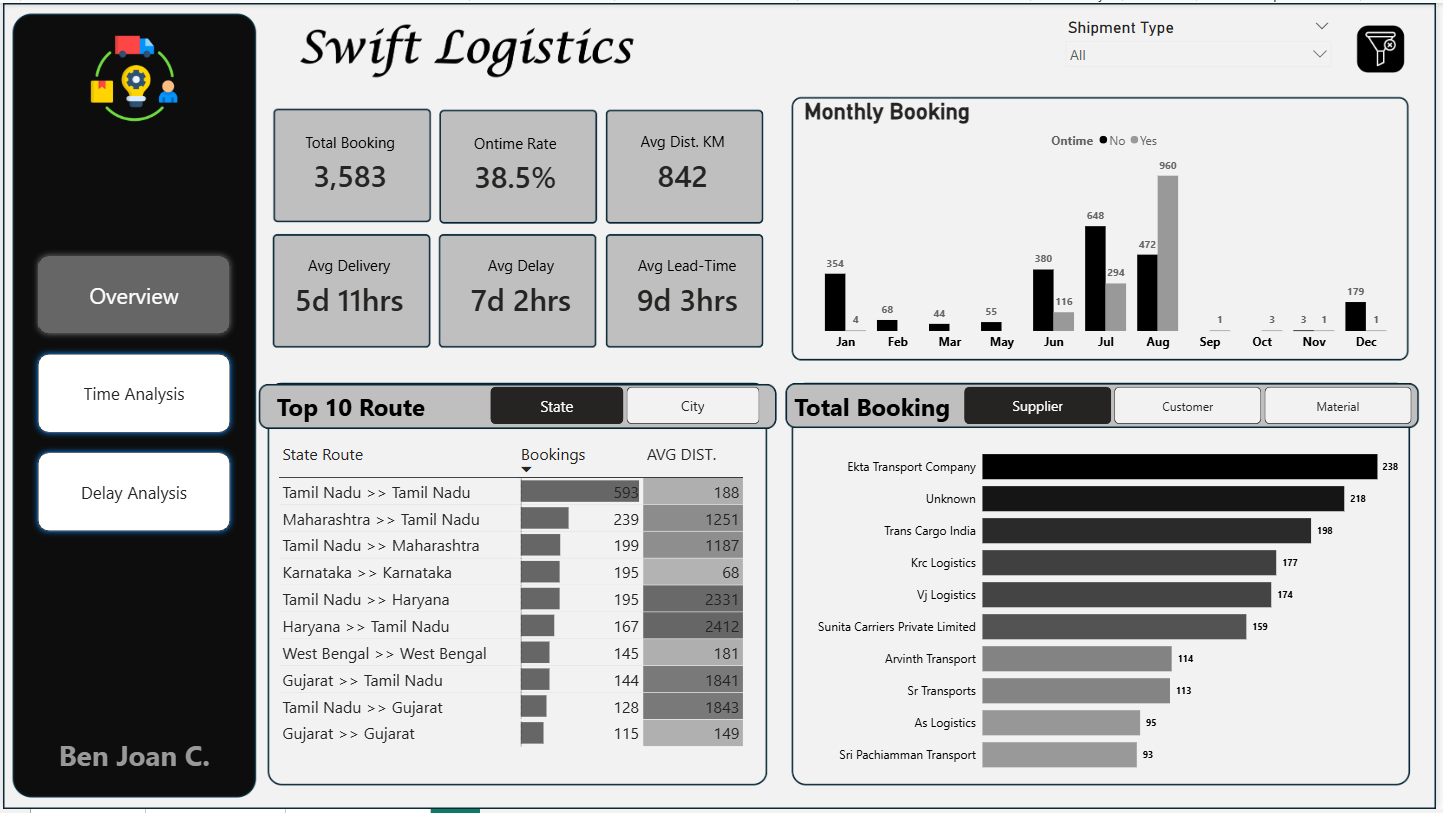

The dashboard page shown, as its layout file describes it:
{"tool":"powerbi","page":{"name":" Overview","canvas":[1920,1080],"ordinal":0},"visuals":[{"type":"cardVisual","fields":{"Data":["_Measures.Total Booking"]},"box":[361.8,140.7,207.7,149.1],"z":0},{"type":"cardVisual","fields":{"Data":["_Measures.Ontime Rate %"]},"box":[582.6,141.3,207.6,150],"z":1000},{"type":"cardVisual","fields":{"Data":["_Measures.Avg Delivery"]},"box":[353.8,307.2,221.6,149],"z":2000},{"type":"cardVisual","fields":{"Data":["_Measures.Avg Delay"]},"box":[582.9,304.8,222.8,150.7],"z":3000},{"type":"cardVisual","fields":{"Data":["_Measures.Avg Lead-Time"]},"box":[805.6,304.8,222.8,150.7],"z":4000},{"type":"cardVisual","fields":{"Data":["_Measures.AVG DISTANCE"]},"box":[807.6,139.5,207.6,150],"z":5000},{"type":"image","box":[1803.5,27.9,83.7,66.3],"z":6000},{"type":"textbox","box":[1055.2,514.5,296.5,59.3],"z":7000},{"type":"columnChart","title":"  Monthly Booking","fields":{"Category":["Date.Booking Month Name"],"Y":["_Measures.Total Booking"],"Series":["Primary Data.Ontime"]},"box":[1068.6,127.3,819,348.4],"z":8000},{"type":"clusteredBarChart","fields":{"Category":["Primary Data.Supplier Name"],"Y":["_Measures.Total Booking"]},"box":[1069.2,573.8,805.8,472.7],"z":9000},{"type":"bookmarkNavigator","box":[1288,514.2,599.6,50.2],"z":12000},{"type":"tableEx","fields":{"Values":["Location.City Route","_Measures.Total Booking","_Measures.AVG DISTANCE"]},"box":[361.8,574.5,651.6,460.6],"z":13000},{"type":"bookmarkNavigator","box":[653.2,514.2,361.8,50.2],"z":15000},{"type":"textbox","box":[361.8,514.2,291.4,58.6],"z":16000},{"type":"slicer","fields":{"Values":["Primary Data.Shipment Type"]},"box":[1413.2,14.9,376.1,80.1],"z":17000},{"type":"textbox","box":[38.5,978.2,274.7,63.6],"z":18000},{"type":"image","box":[38.5,43.5,274.7,115.6],"z":19000},{"type":"pageNavigator","box":[38.5,330,274.7,386.9],"z":20000}]}

Visuals, with their boxes in screenshot pixels (x1, y1, x2, y2), scaled from the page's 1920x1080 canvas onto the 1443x813 screenshot:
cardVisual - _Measures.Total Booking: bbox=(272, 106, 428, 218)
cardVisual - _Measures.Ontime Rate %: bbox=(438, 106, 594, 219)
cardVisual - _Measures.Avg Delivery: bbox=(266, 231, 432, 343)
cardVisual - _Measures.Avg Delay: bbox=(438, 229, 606, 343)
cardVisual - _Measures.Avg Lead-Time: bbox=(605, 229, 773, 343)
cardVisual - _Measures.AVG DISTANCE: bbox=(607, 105, 763, 218)
image: bbox=(1355, 21, 1418, 71)
textbox: bbox=(793, 387, 1016, 432)
"  Monthly Booking" columnChart: bbox=(803, 96, 1419, 358)
clusteredBarChart - Primary Data.Supplier Name x _Measures.Total Booking: bbox=(804, 432, 1409, 788)
bookmarkNavigator: bbox=(968, 387, 1419, 425)
tableEx - Location.City Route x _Measures.Total Booking: bbox=(272, 432, 762, 779)
bookmarkNavigator: bbox=(491, 387, 763, 425)
textbox: bbox=(272, 387, 491, 431)
slicer - Primary Data.Shipment Type: bbox=(1062, 11, 1345, 72)
textbox: bbox=(29, 736, 235, 784)
image: bbox=(29, 33, 235, 120)
pageNavigator: bbox=(29, 248, 235, 540)
